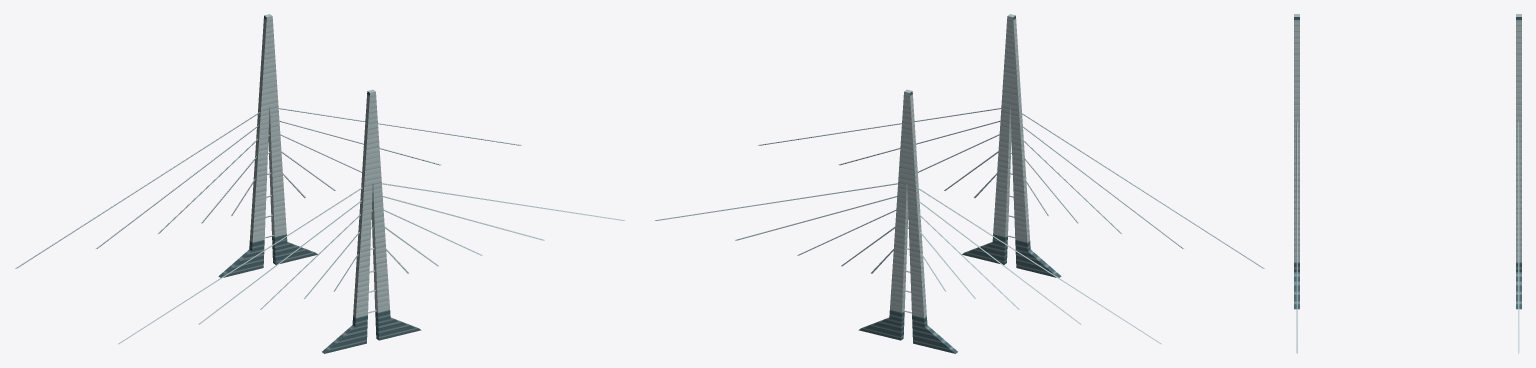
Rendered from jy_qiao02.FBX.
The picture shows the model from 3 angles, left to right: view 1: azimuth 30°, elevation 25°; view 2: azimuth 150°, elevation 25°; view 3: azimuth 270°, elevation 25°; orthographic projection. The views are drawn at different scales.
Parts seen in each view (by area): view 1: jy_qiao02; view 2: jy_qiao02; view 3: jy_qiao02.
Part boxes in pixels (x1,y1,x2,y2): jy_qiao02: (15,14,624,353); jy_qiao02: (655,14,1264,353); jy_qiao02: (1294,14,1521,353).
Size of the model in its own units: 7375 by 3463 by 2665.
1 material, 1 textured.
